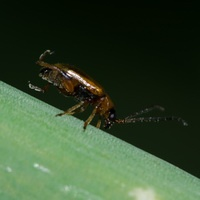insect: (28, 50, 187, 128)
